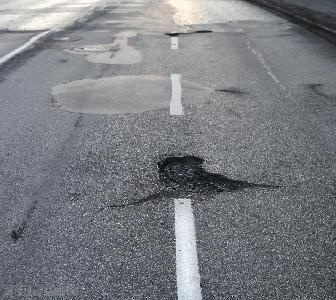pothole: (151, 152, 246, 199), (165, 28, 183, 37), (193, 28, 213, 34)
